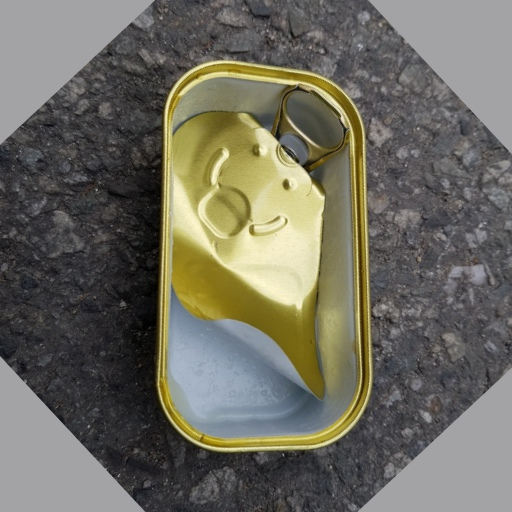Metal_2: (141, 60, 379, 457)
